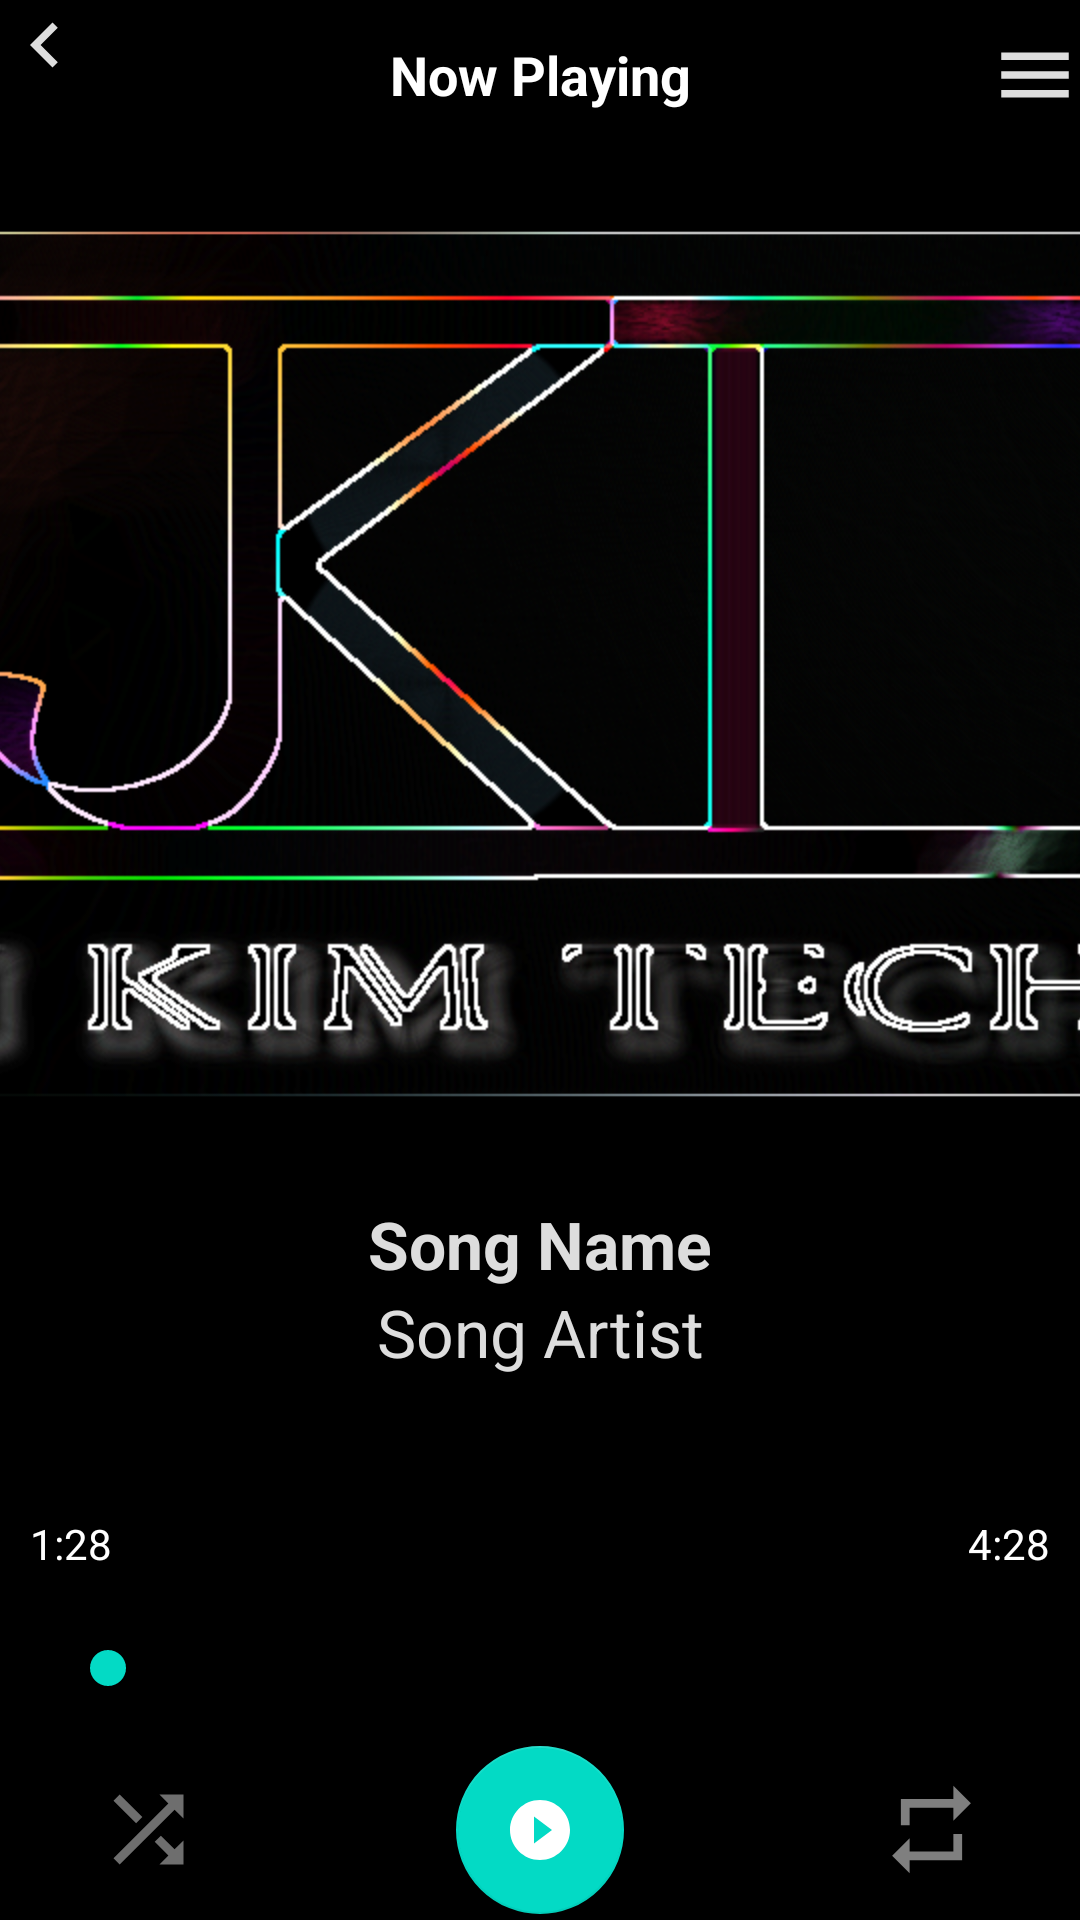

Named icons in this screenshot (1080×1920) and their bounding boxes, [left=x1, top=y1, right=x2, bottom=y2]:
chevron left: [left=30, top=22, right=58, bottom=68]
menu: [left=1001, top=52, right=1069, bottom=98]
play circle: [left=456, top=1746, right=624, bottom=1914]
repeat off: [left=892, top=1786, right=971, bottom=1873]
shuffle 0ff: [left=114, top=1794, right=184, bottom=1865]
